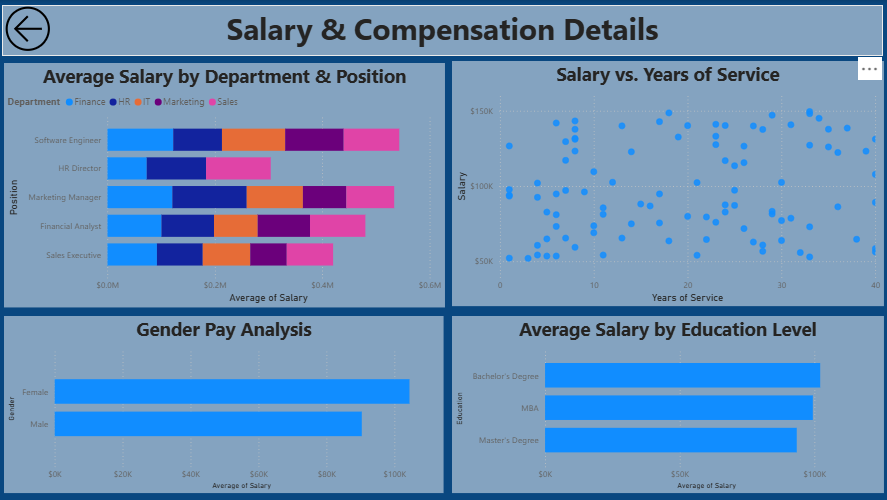

The page's visual inventory and layout, read from the dashboard file:
{"tool":"powerbi","page":{"name":"Salary & Compensation","canvas":[1280,720],"ordinal":3},"visuals":[{"type":"barChart","title":"Average Salary by Department & Position","fields":{"Y":["Avg(Sheet1.Salary)"],"Category":["Sheet1.Position"],"Series":["Sheet1.Department"]},"box":[6.7,90,635,351.7],"z":0},{"type":"scatterChart","title":"Salary vs. Years of Service","fields":{"X":["Sheet1.Years of Service"],"Y":["Sheet1.Salary"]},"box":[651.7,88.3,621.7,353.3],"z":1000},{"type":"clusteredBarChart","title":"Gender Pay Analysis","fields":{"Category":["Sheet1.Gender"],"Y":["Avg(Sheet1.Salary)"]},"box":[6.7,455,633.3,255],"z":2000},{"type":"barChart","title":"Average Salary by Education Level","fields":{"Y":["Avg(Sheet1.Salary)"],"Category":["Sheet1.Education"]},"box":[651.7,455,621.7,255],"z":3000},{"type":"textbox","box":[5,6.7,1268.3,73.3],"z":4000},{"type":"actionButton","box":[1.7,1.7,125,80],"z":5000}]}

Visuals, with their boxes in screenshot pixels (x1, y1, x2, y2), scaled from the page's 1280x720 canvas onto the 887x500 screenshot:
"Average Salary by Department & Position" barChart: (left=5, top=62, right=445, bottom=307)
"Salary vs. Years of Service" scatterChart: (left=452, top=61, right=882, bottom=307)
"Gender Pay Analysis" clusteredBarChart: (left=5, top=316, right=444, bottom=493)
"Average Salary by Education Level" barChart: (left=452, top=316, right=882, bottom=493)
textbox: (left=3, top=5, right=882, bottom=56)
actionButton: (left=1, top=1, right=88, bottom=57)
